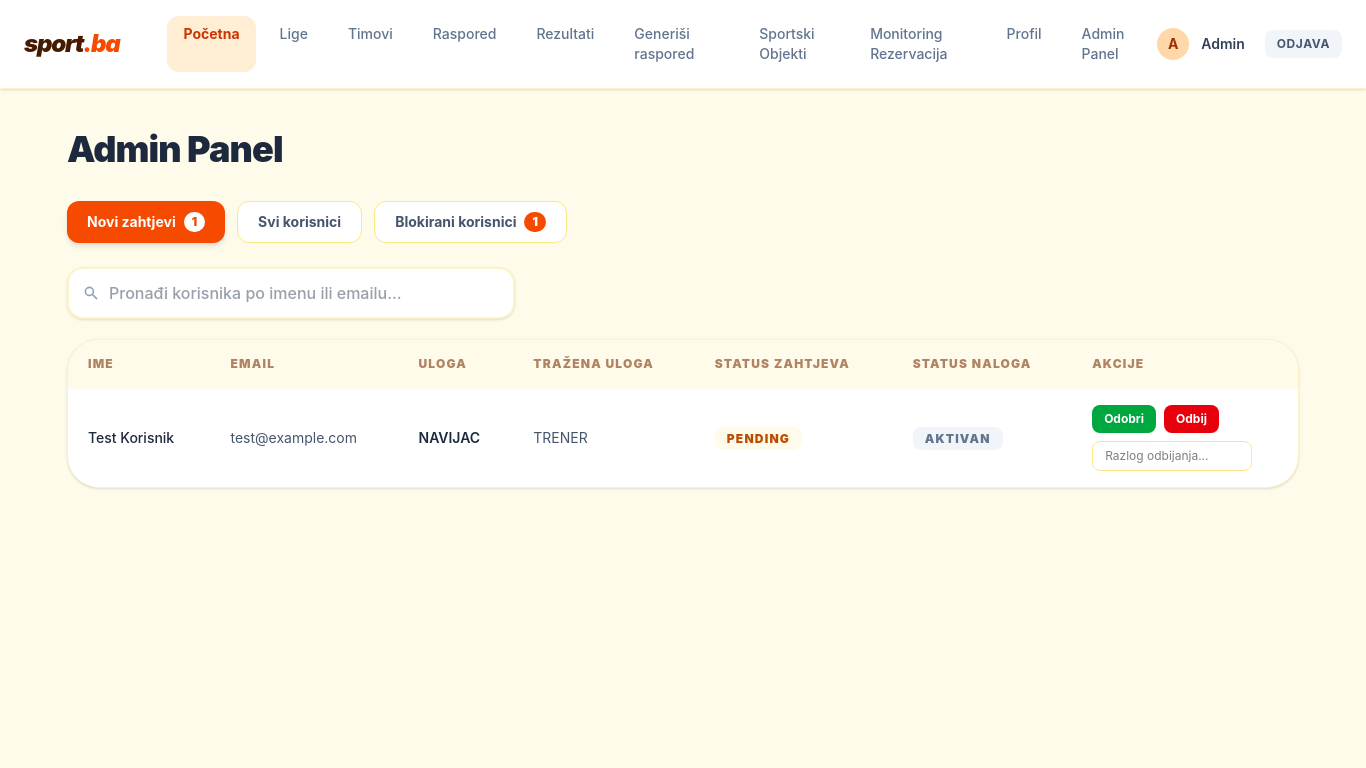
Scenario: AdminKorisnici UI › prikazuje success poruku nakon odobravanja
Click the button "Odobri".
click(1124, 419)  # box [1092,405,1156,433]
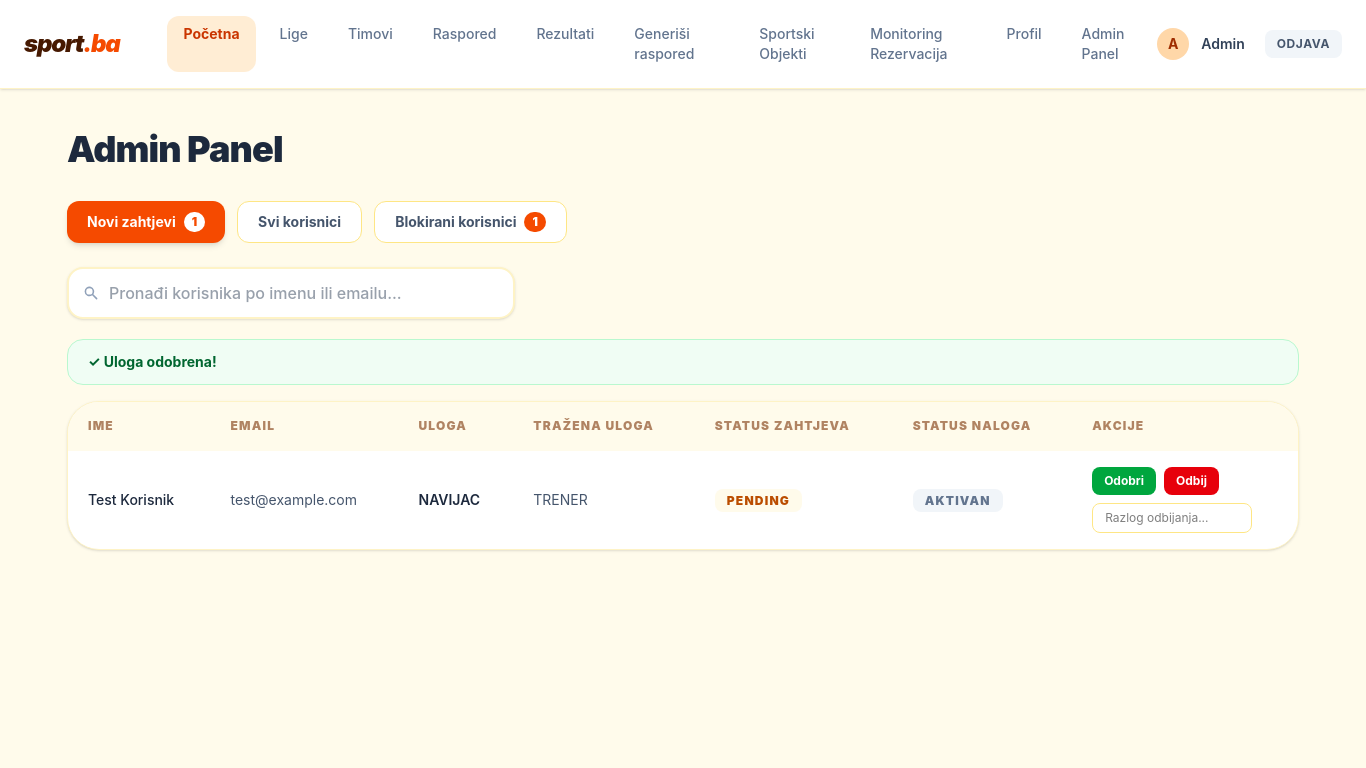
Check: the text "✓ Uloga odobrena!" is shown, box [67,339,1299,385]
